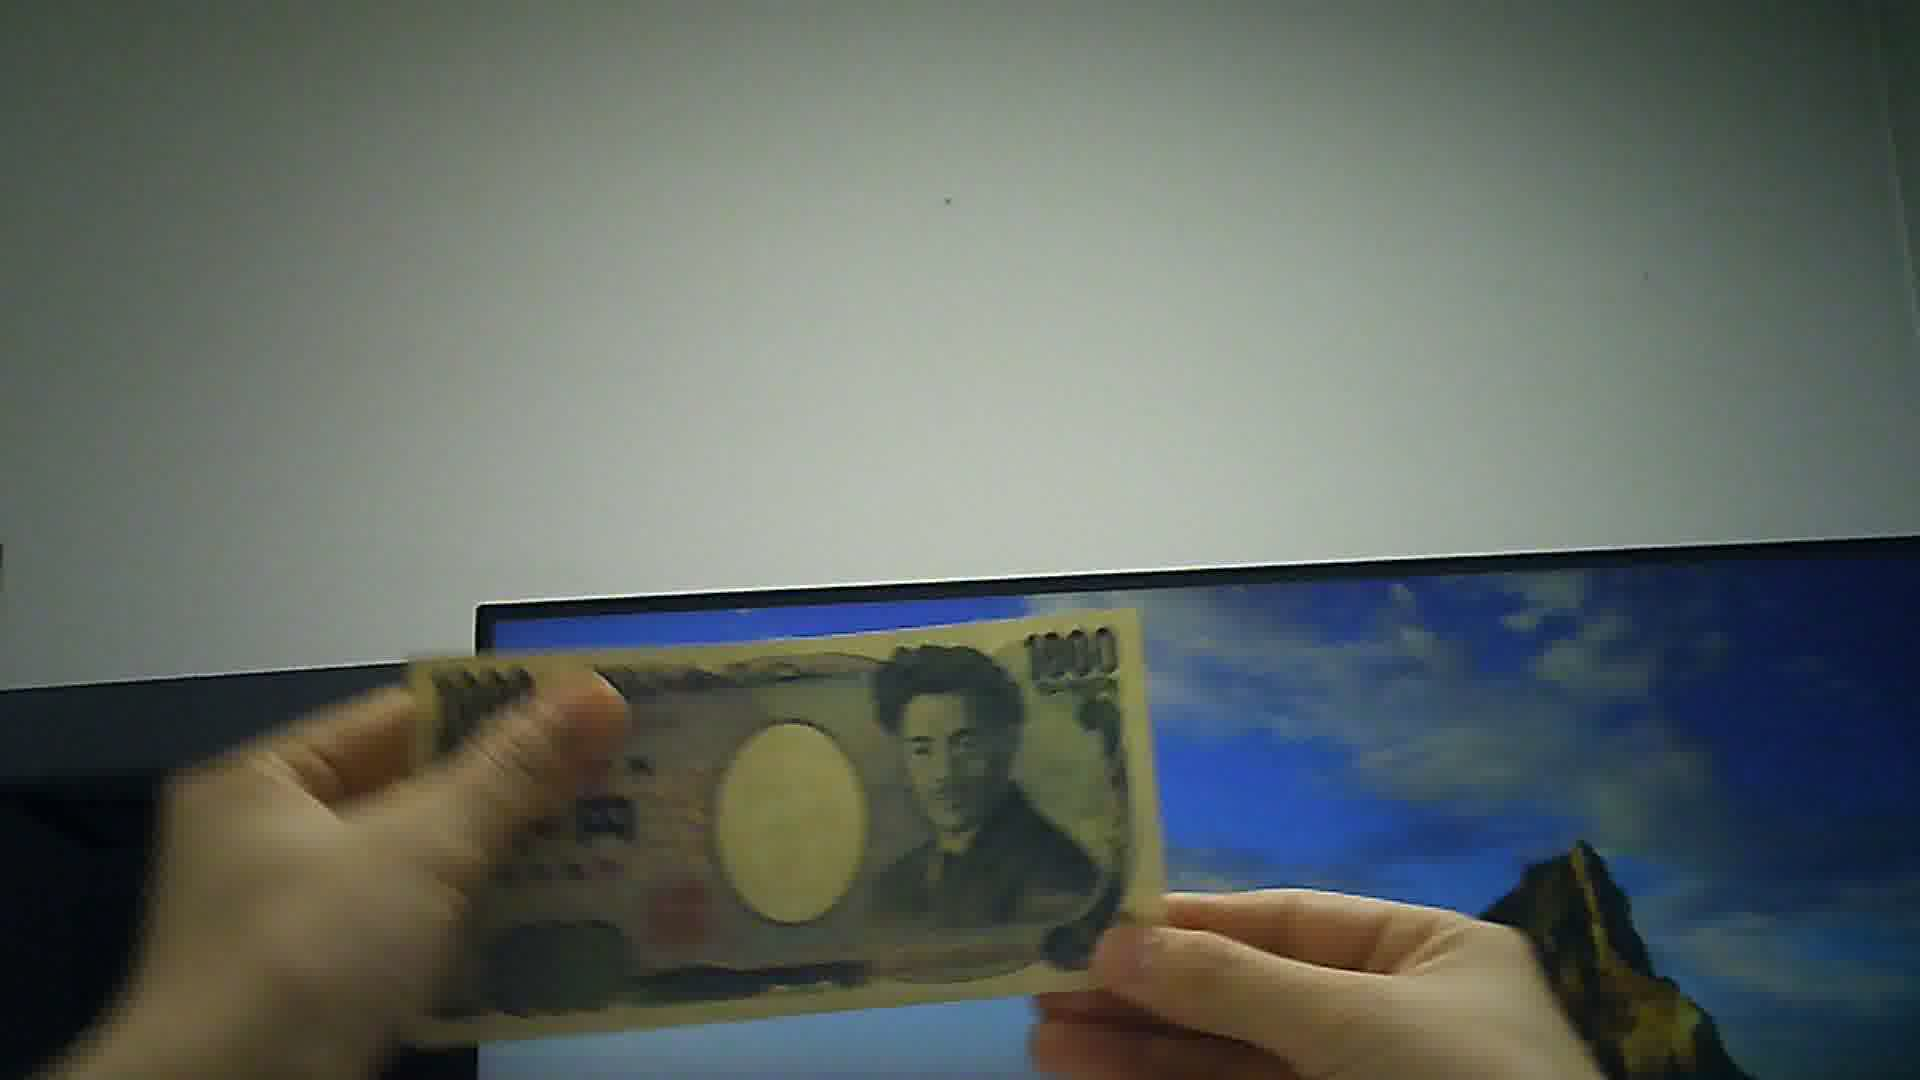1,000 Yen: (389, 603, 1189, 1038)
